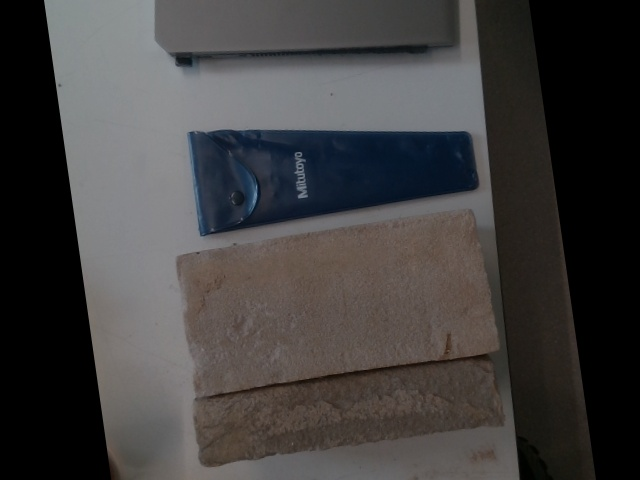brick: (181, 206, 493, 399)
